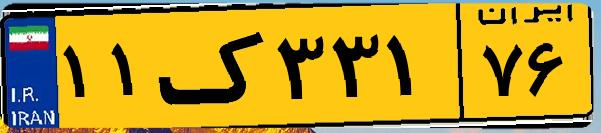1: (385, 28, 445, 110), (57, 26, 110, 100), (110, 28, 158, 98)
3: (270, 28, 330, 110), (330, 28, 385, 110)
6: (525, 38, 570, 115)
7: (475, 38, 525, 113)
ک: (158, 12, 270, 120)
